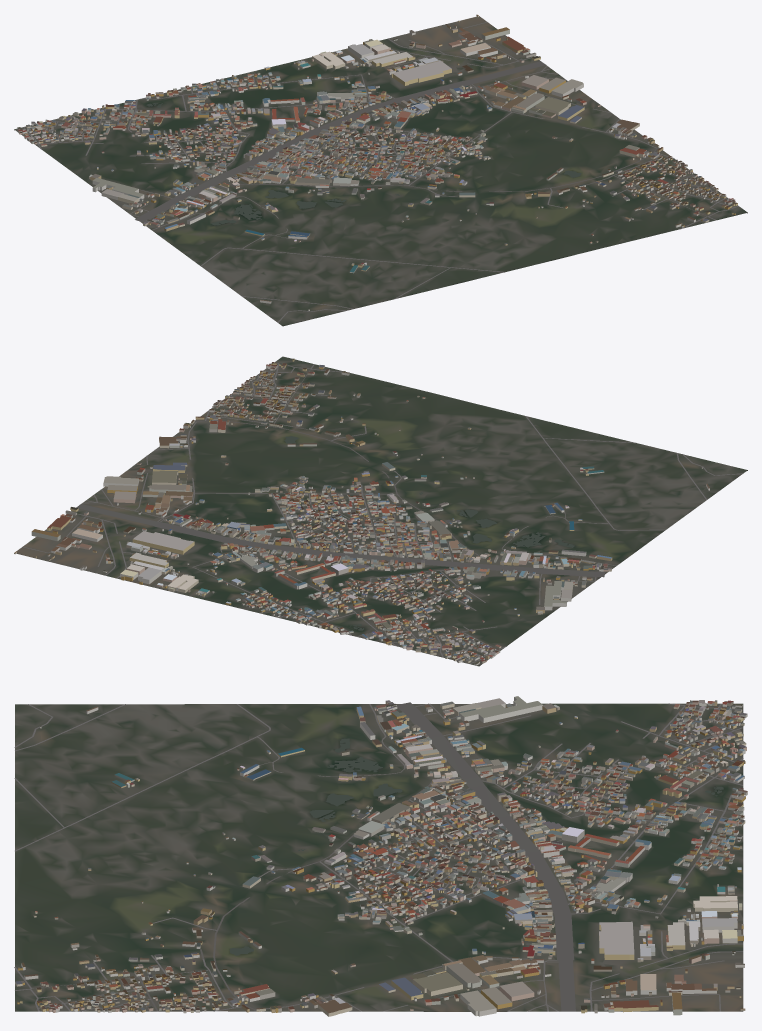
3 views of the same model, one above another, from view 1: azimuth 30°, elevation 25°; view 2: azimuth 150°, elevation 25°; view 3: azimuth 270°, elevation 25° (orthographic). The views are drawn at different scales.
Parts seen in each view (by area): view 1: ground, buildings, roads, water; view 2: ground, buildings, roads, water; view 3: ground, buildings, roads, water.
Boxes of the visible parts, x1=… form: ground: x1=14, y1=16, x2=747, y2=326; buildings: x1=17, y1=14, x2=737, y2=310; roads: x1=22, y1=22, x2=738, y2=322; water: x1=146, y1=103, x2=581, y2=225; ground: x1=14, y1=356, x2=747, y2=666; buildings: x1=14, y1=358, x2=709, y2=665; roads: x1=22, y1=363, x2=742, y2=663; water: x1=284, y1=436, x2=574, y2=630; ground: x1=15, y1=703, x2=743, y2=1011; buildings: x1=15, y1=696, x2=747, y2=1016; roads: x1=14, y1=702, x2=743, y2=1011; water: x1=229, y1=738, x2=723, y2=955.
Bounding box in the file's own units: 1437 × 17 × 1413.
